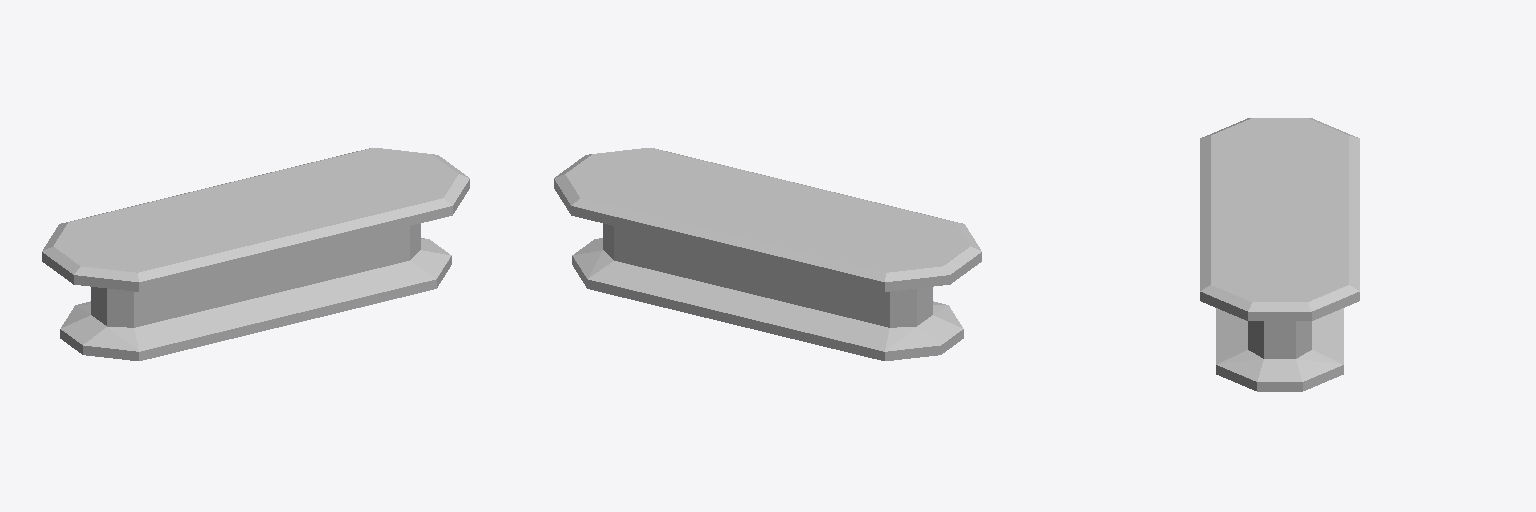
File: briefingroom_table_physics.obj
The picture shows the model from 3 angles: view 1: azimuth 30°, elevation 25°; view 2: azimuth 150°, elevation 25°; view 3: azimuth 270°, elevation 25°; orthographic projection.
Visible parts, largest first — view 1: Briefingroom_Table_Physics; view 2: Briefingroom_Table_Physics; view 3: Briefingroom_Table_Physics.
Boxes of the visible parts, x1,y1,x2,y2 form: Briefingroom_Table_Physics: [42, 148, 469, 360]; Briefingroom_Table_Physics: [554, 148, 981, 360]; Briefingroom_Table_Physics: [1200, 118, 1359, 391].
Bounding box in the file's own units: 52.43 × 11.58 × 18.29.